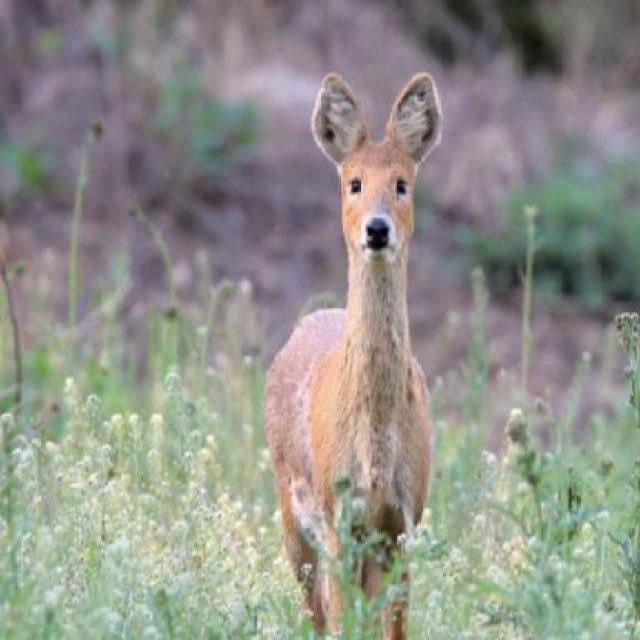deer: (264, 71, 458, 638)
